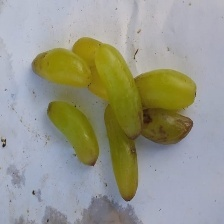grapes: (43, 0, 209, 192)
